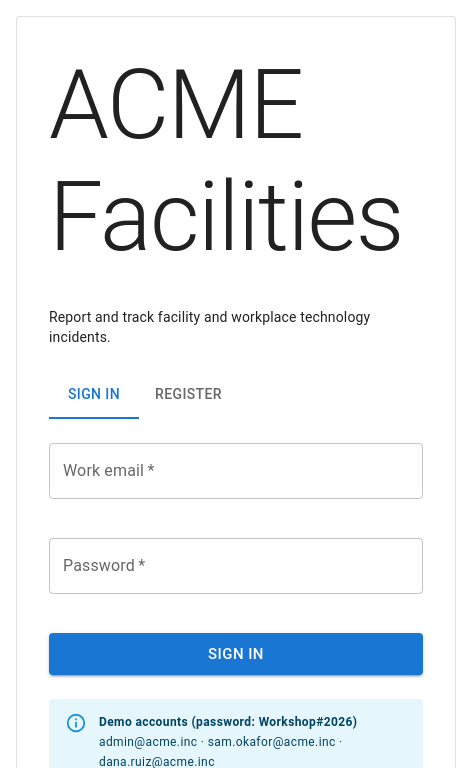
Scenario: registering › reveals the full name field only on the register tab
The width and height of the screenshot is (473, 768).
Expected: the field labelled "Full name" is not shown
Click the tab "Register" at (188, 395), box [139,371,238,419]
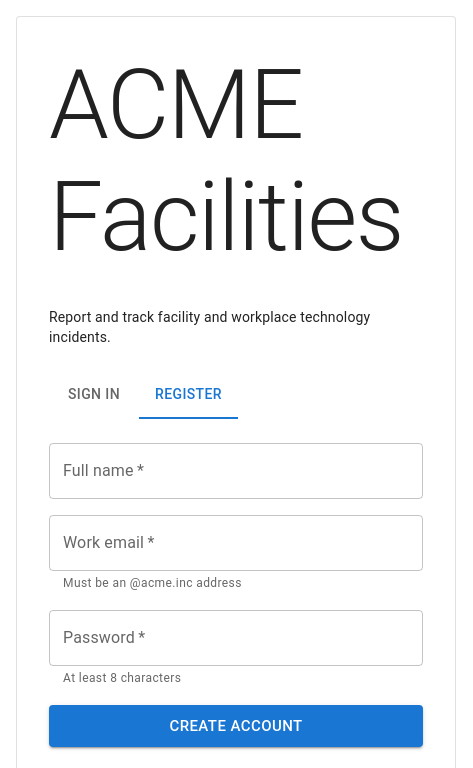
Expected: the field labelled "Full name *" is shown, [49,443,423,499]
